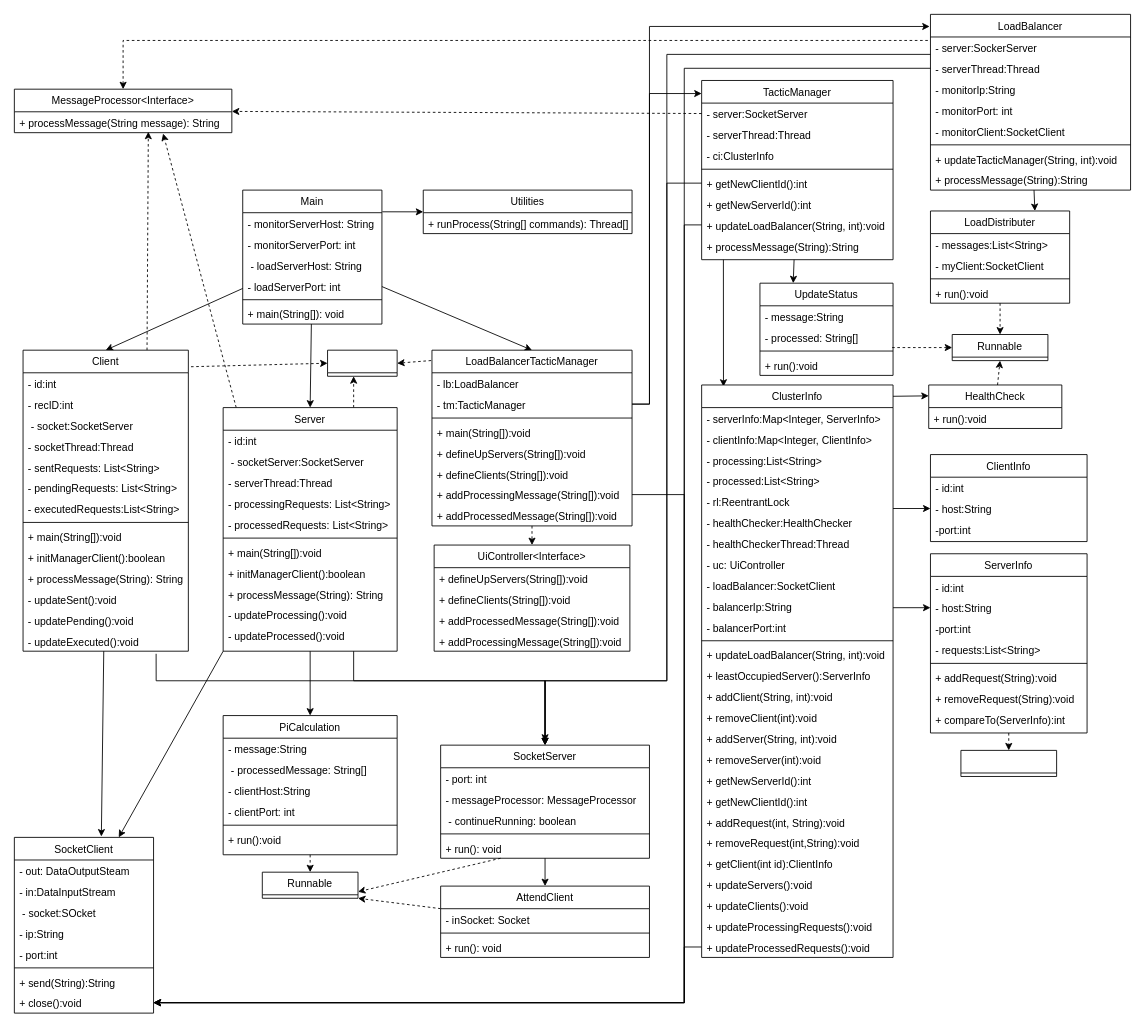
The diagram is 1145 pixels wide and 1027 high, and some of its shapes have lost their labels. Here are the shapes that lost their labels. From the top down, the centre of each, then its label:
the point at 362,362: JFrame
the point at 1008,763: Comparable
